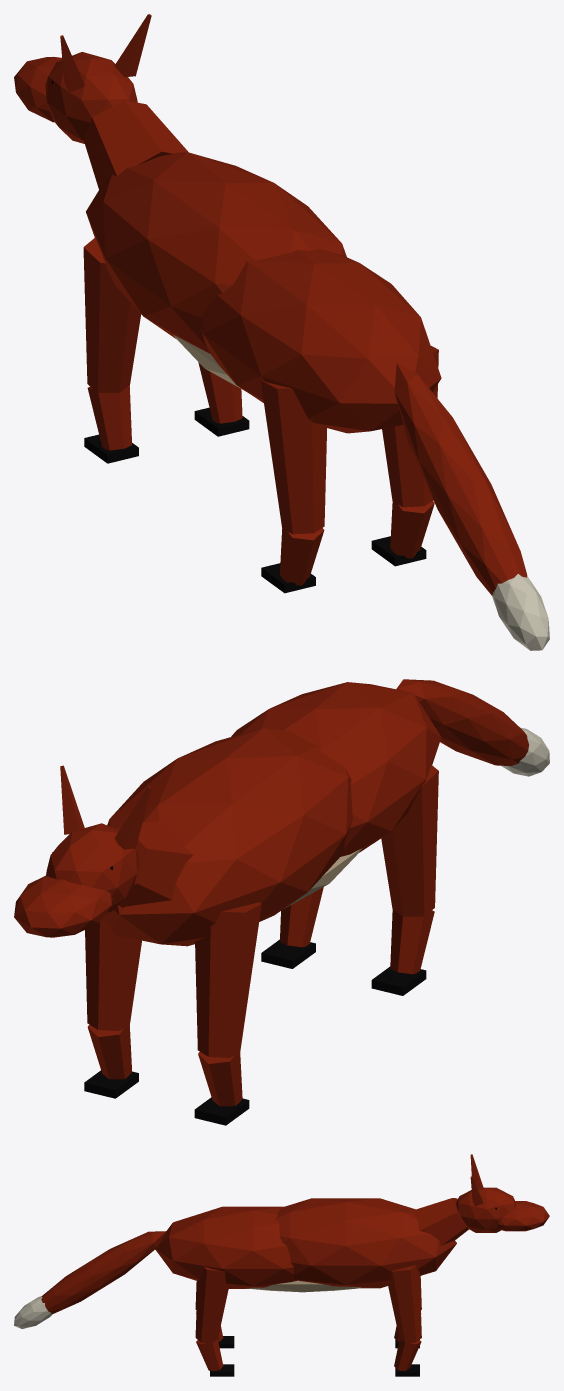
File: animal_fox.fbx
3 renders of one model, top to bottom at view 1: azimuth 30°, elevation 25°; view 2: azimuth 150°, elevation 25°; view 3: azimuth 270°, elevation 25°, orthographic. The views are drawn at different scales.
Parts seen in each view (by area): view 1: animal_fox; view 2: animal_fox; view 3: animal_fox.
Part boxes in pixels (box(x1,y1,x2,y2)): animal_fox: box(14, 14, 549, 650); animal_fox: box(14, 679, 549, 1125); animal_fox: box(14, 1154, 549, 1376).
Bounding box in the file's own units: 0.2568 × 0.5165 × 1.3.
